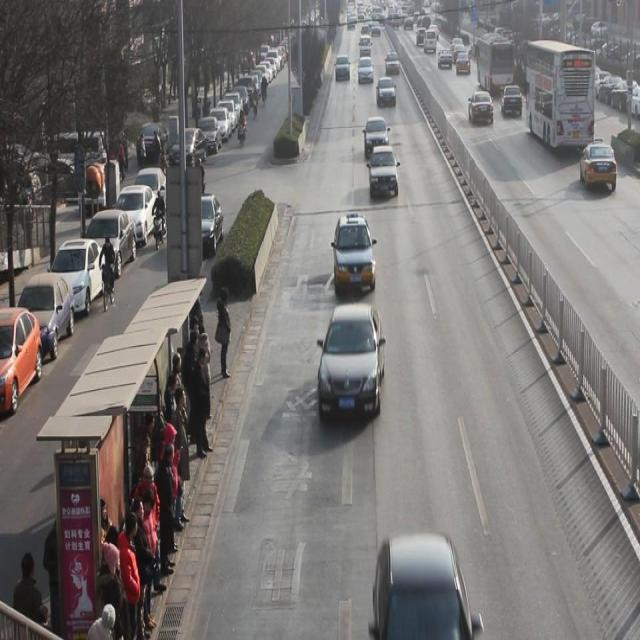car: (374, 531, 475, 640), (316, 303, 384, 419), (334, 215, 377, 295), (581, 144, 618, 191), (370, 146, 399, 199), (365, 117, 391, 162), (469, 91, 495, 126), (502, 84, 524, 117), (377, 77, 397, 108), (358, 56, 374, 84)
van: (526, 41, 594, 156), (475, 33, 516, 94)
